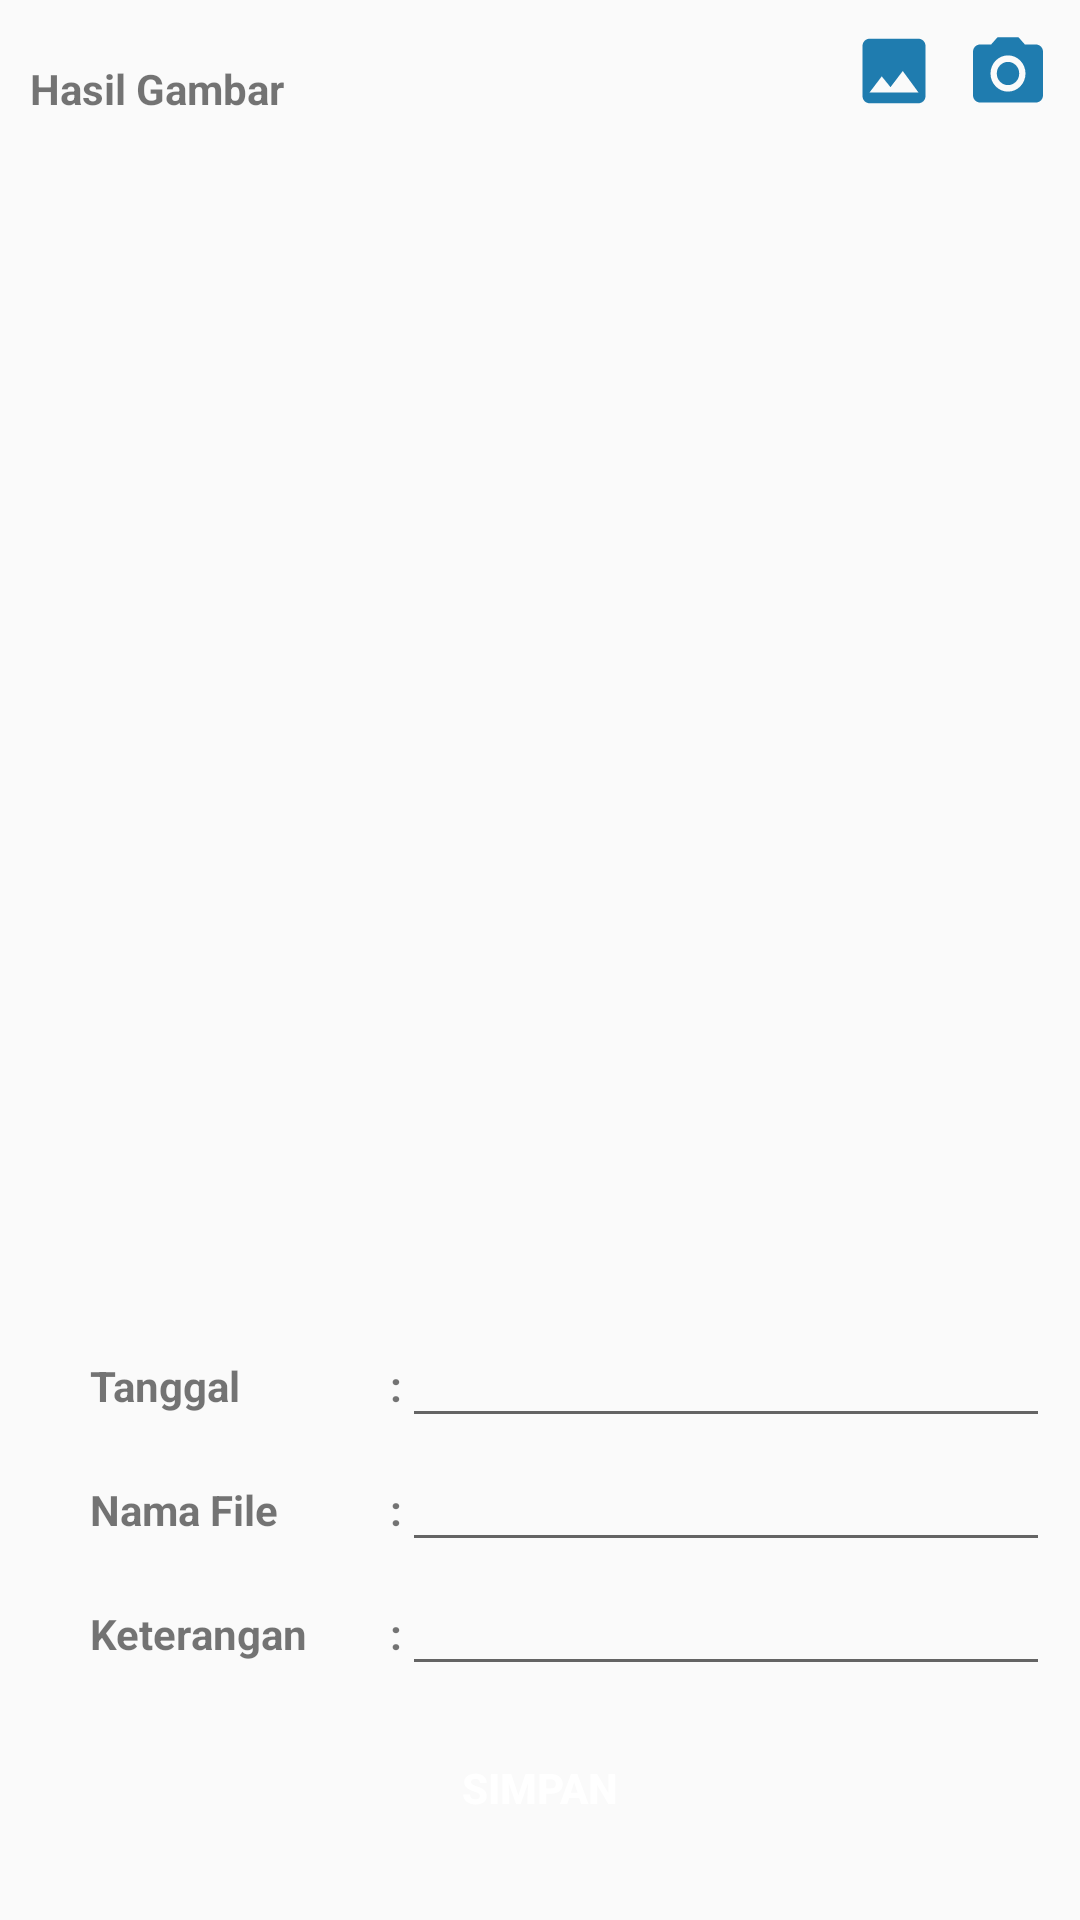

Point at icon controls on the screen. Image size 1080×1920, points as [x,y].
photo camera: [1008,70]
